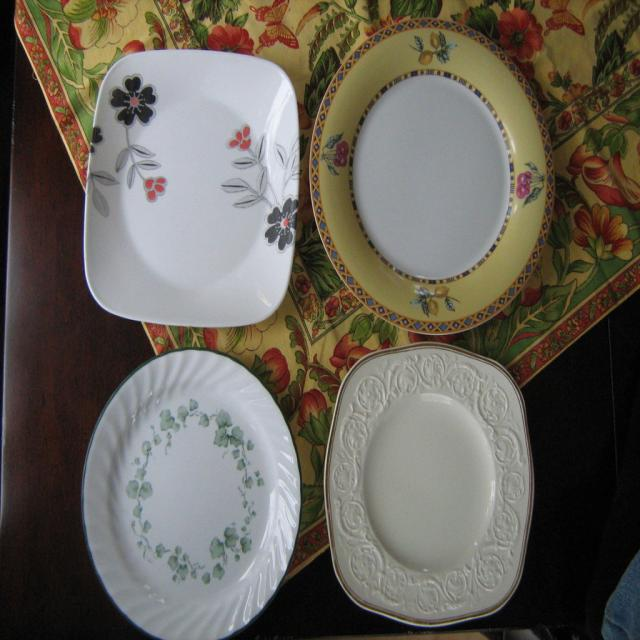non-organic waste: (308, 28, 565, 320), (77, 341, 311, 640), (315, 331, 539, 636), (73, 49, 300, 328)
